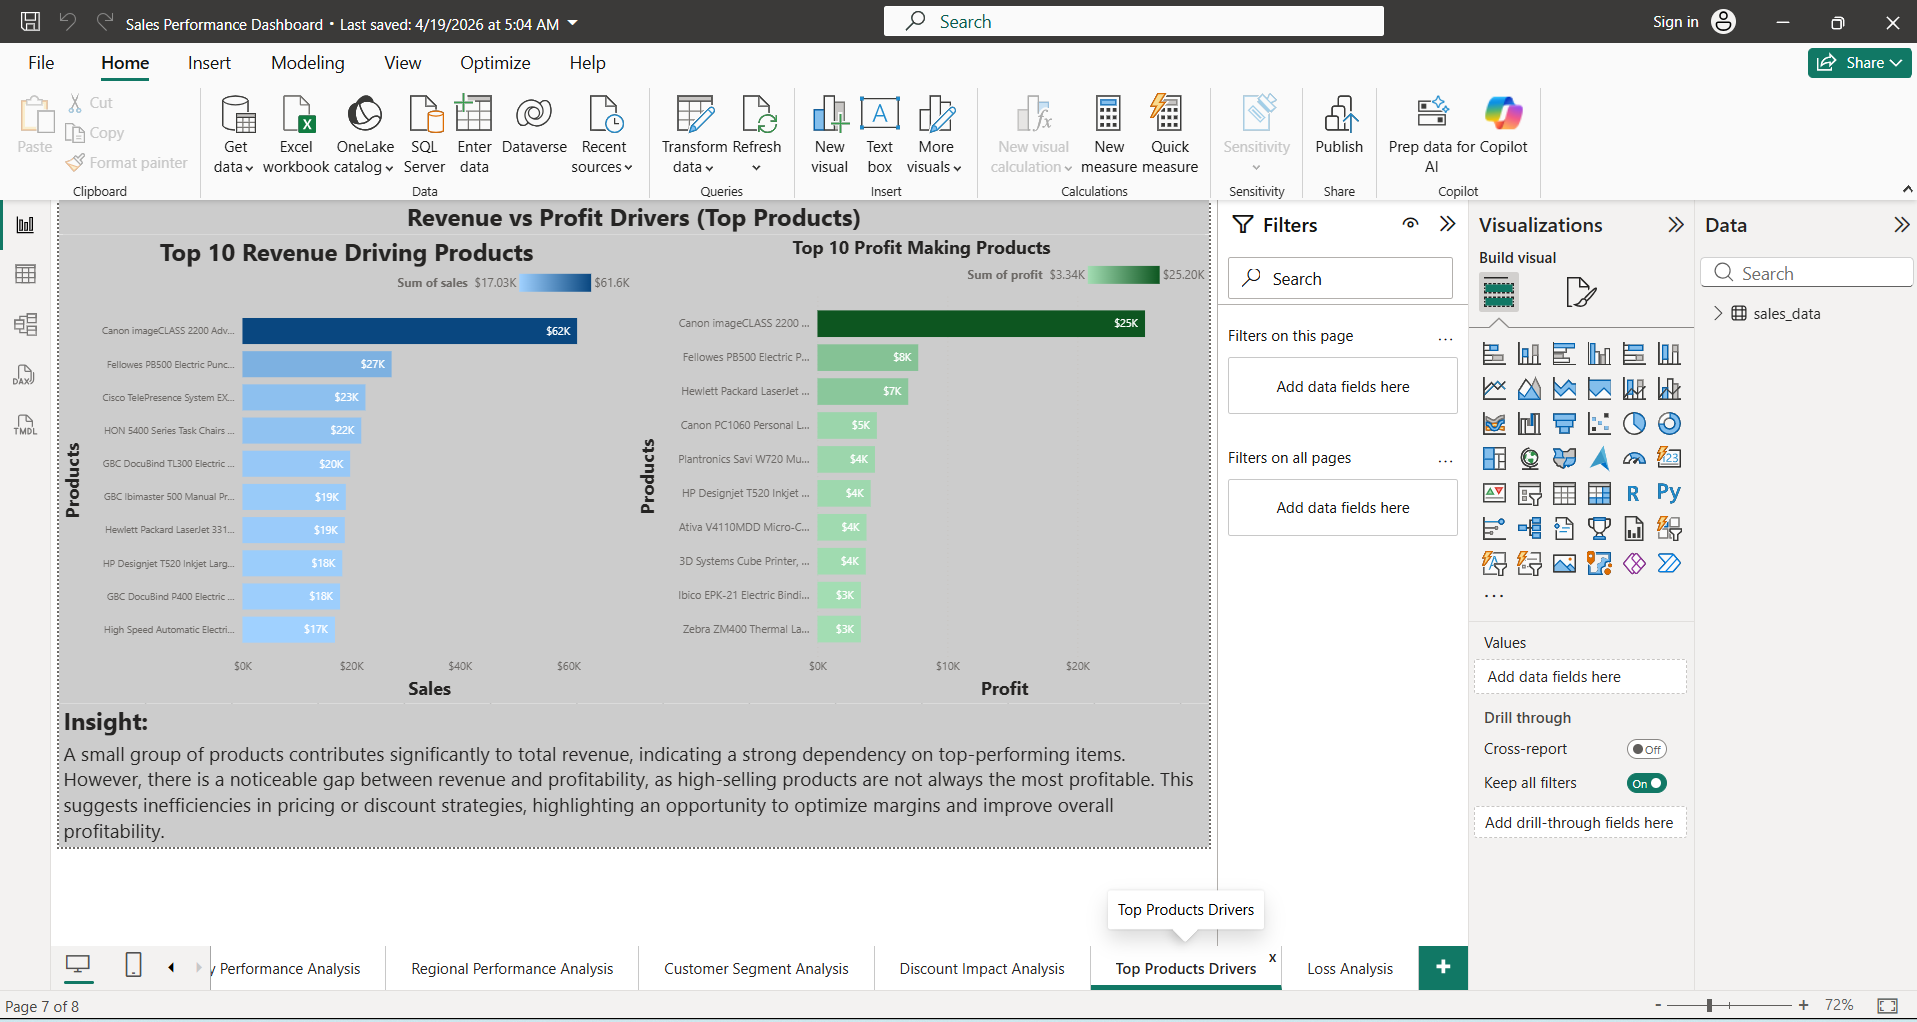

Layout of this report page (visuals, bound fields, positions):
{"tool":"powerbi","page":{"name":"Top Products Drivers","canvas":[1280,720],"ordinal":6},"visuals":[{"type":"clusteredBarChart","title":"Top 10 Revenue Driving Products","fields":{"Category":["sales_data.product_name"],"Y":["Sum(sales_data.sales)"]},"box":[0,38.6,640,521.4],"z":0},{"type":"textbox","title":"Insight:","box":[0,560,1280,160],"z":1000},{"type":"clusteredBarChart","title":"Top 10 Profit Making Products","fields":{"Y":["Sum(sales_data.profit)"],"Category":["sales_data.product_name"]},"box":[640,38.6,640,521.4],"z":2000},{"type":"textbox","title":"Revenue vs Profit Drivers (Top Products)","box":[0,0,1280,38.6],"z":3000}]}

Visuals, with their boxes on the page's 1280x720 design canvas (x1, y1, x2, y2). These are canvas units, not pixel positions in the 1917x1022 screenshot, which may show the page scaled, cropped or inside an application window:
"Top 10 Revenue Driving Products" clusteredBarChart: Rect(0, 39, 640, 560)
"Insight:" textbox: Rect(0, 560, 1280, 720)
"Top 10 Profit Making Products" clusteredBarChart: Rect(640, 39, 1280, 560)
"Revenue vs Profit Drivers (Top Products)" textbox: Rect(0, 0, 1280, 39)
